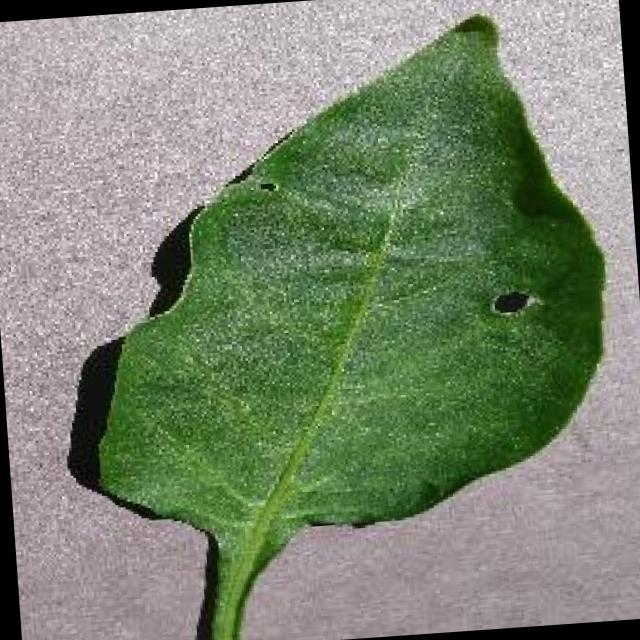Chilli_Healthy: (60, 1, 629, 640)
